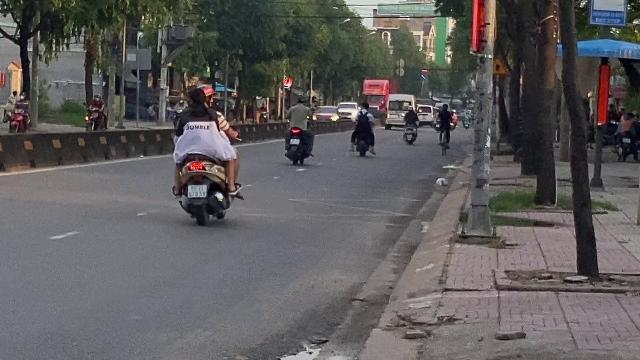helmet: (200, 85, 217, 107)
licenseplate: (188, 185, 206, 197)
motorcyclist: (168, 83, 244, 225)
nohelmet: (186, 86, 208, 110)
